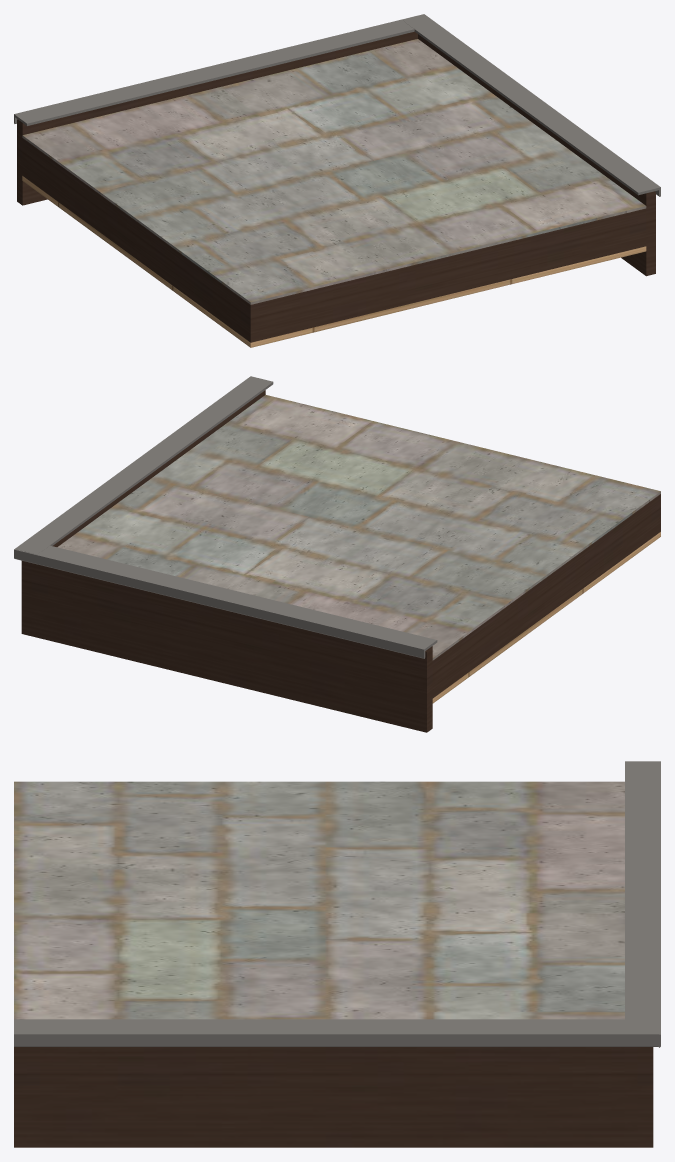
Rendered from deck_e0110.glb.
3 views of the same model, one above another, from view 1: azimuth 30°, elevation 25°; view 2: azimuth 150°, elevation 25°; view 3: azimuth 270°, elevation 25° (orthographic). The views are drawn at different scales.
Parts seen in each view (by area): view 1: deck_e0110_roofdeck, deck_e0110_fascia, deck_e0110_metal, deck_e0110_ceiling; view 2: deck_e0110_roofdeck, deck_e0110_fascia, deck_e0110_metal, deck_e0110_ceiling; view 3: deck_e0110_roofdeck, deck_e0110_fascia, deck_e0110_metal.
Part boxes in pixels (x1,y1,x2,y2): deck_e0110_roofdeck: (22,39,646,304); deck_e0110_fascia: (17,31,655,342); deck_e0110_metal: (14,14,660,196); deck_e0110_ceiling: (22,176,646,347); deck_e0110_roofdeck: (57,395,660,660); deck_e0110_fascia: (21,390,660,732); deck_e0110_metal: (14,376,437,658); deck_e0110_ceiling: (432,532,660,703); deck_e0110_roofdeck: (14,781,624,1019); deck_e0110_fascia: (14,1047,653,1147); deck_e0110_metal: (14,761,660,1047).
Size of the model in its own units: 2.08 by 0.4125 by 2.08.
Materials: 4 (3 with a texture image).
